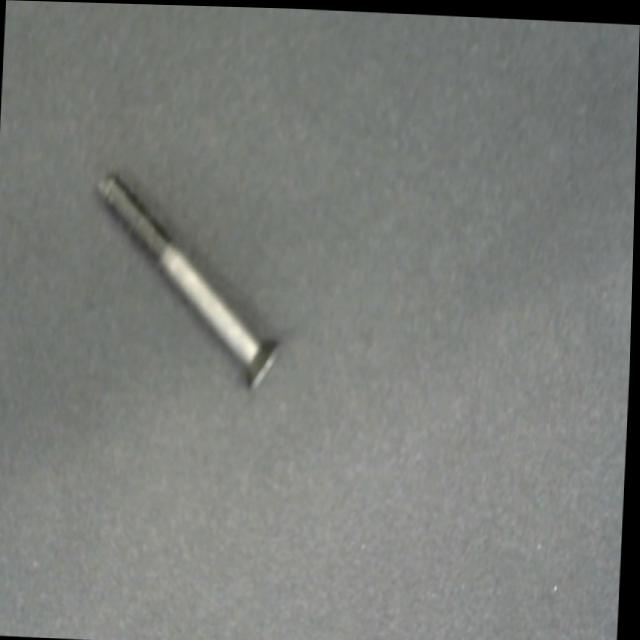FlatHeadSocketScrew: (87, 171, 291, 394)
